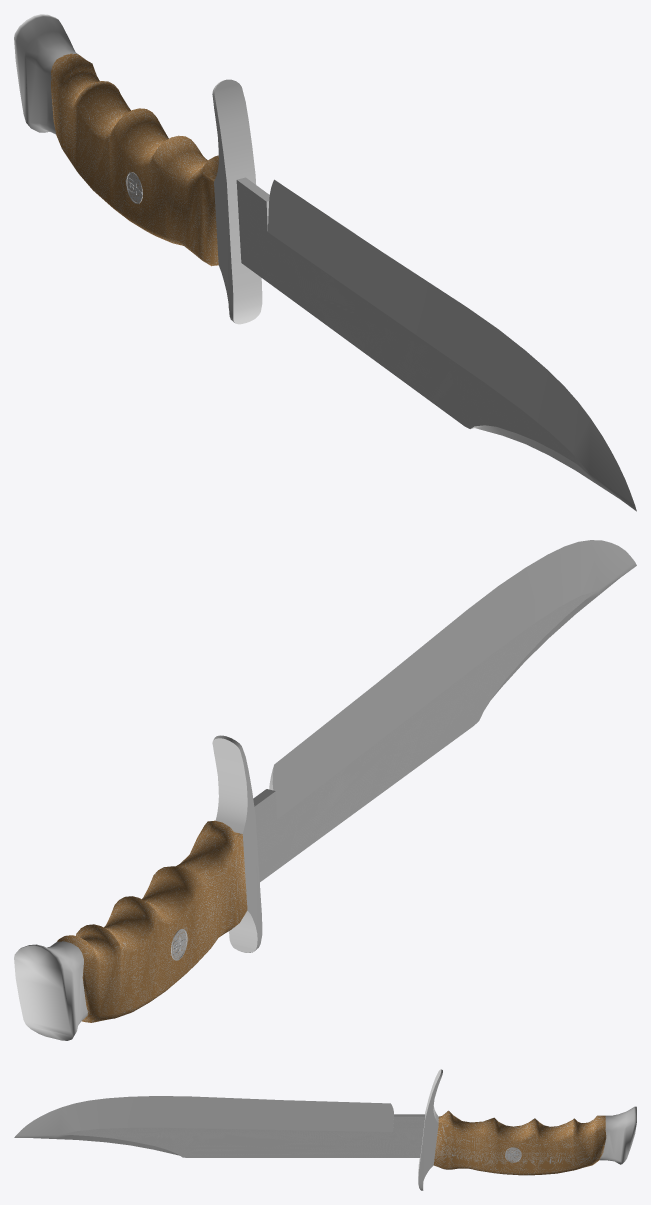
The model's file is model_scale.obj.
The picture shows the model from 3 angles, top to bottom: view 1: azimuth 30°, elevation 25°; view 2: azimuth 150°, elevation 25°; view 3: azimuth 270°, elevation 25°; orthographic projection. The views are drawn at different scales.
Visible parts, largest first — view 1: mesh1_mesh1-geometry, mesh10_mesh10-geometry, mesh5_mesh5-geometry, mesh9_mesh9-geometry; view 2: mesh1_mesh1-geometry, mesh10_mesh10-geometry, mesh9_mesh9-geometry, mesh5_mesh5-geometry; view 3: mesh1_mesh1-geometry, mesh10_mesh10-geometry, mesh9_mesh9-geometry, mesh5_mesh5-geometry.
Part boxes in pixels (<box>): mesh1_mesh1-geometry: <box>236,177,636,511</box>; mesh10_mesh10-geometry: <box>51,53,218,266</box>; mesh5_mesh5-geometry: <box>212,79,262,324</box>; mesh9_mesh9-geometry: <box>14,14,77,134</box>; mesh1_mesh1-geometry: <box>253,540,636,882</box>; mesh10_mesh10-geometry: <box>57,820,247,1022</box>; mesh9_mesh9-geometry: <box>14,941,87,1040</box>; mesh5_mesh5-geometry: <box>212,735,262,952</box>; mesh1_mesh1-geometry: <box>14,1096,425,1157</box>; mesh10_mesh10-geometry: <box>433,1110,606,1175</box>; mesh9_mesh9-geometry: <box>599,1106,636,1164</box>; mesh5_mesh5-geometry: <box>418,1069,442,1190</box>.
Size of the model in its own units: 0.0102 by 0.0475 by 0.2247.
